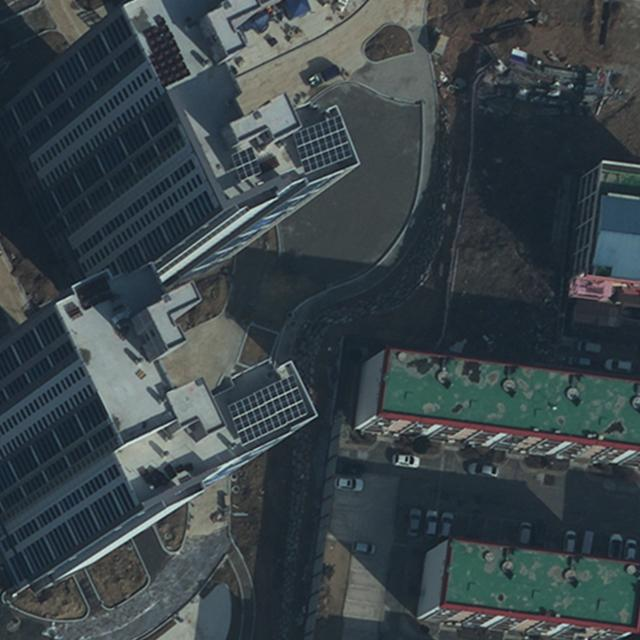panel: (224, 372, 310, 447), (291, 114, 354, 174), (230, 144, 263, 182)
